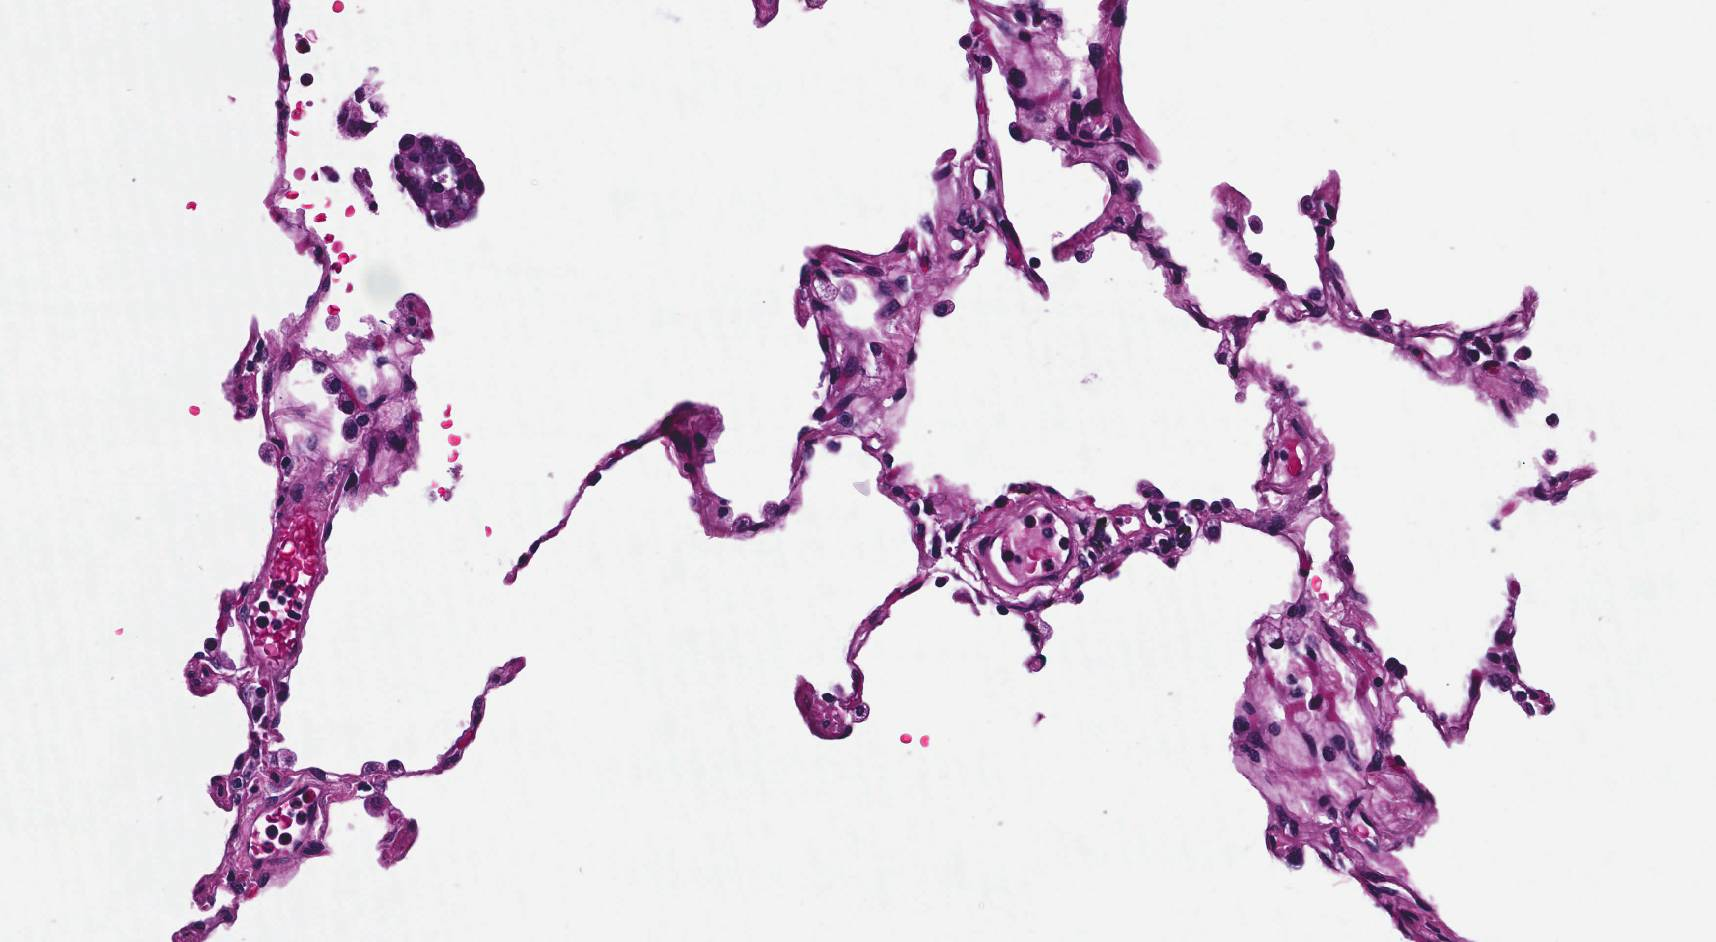stas: (393, 132, 487, 227)
